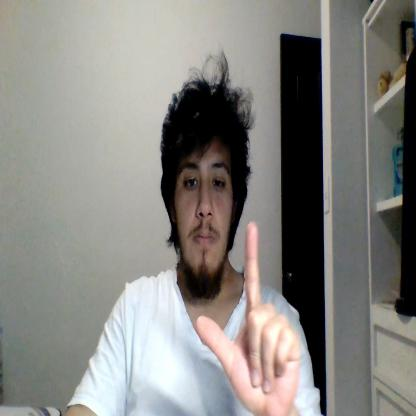L: (197, 221, 302, 414)
